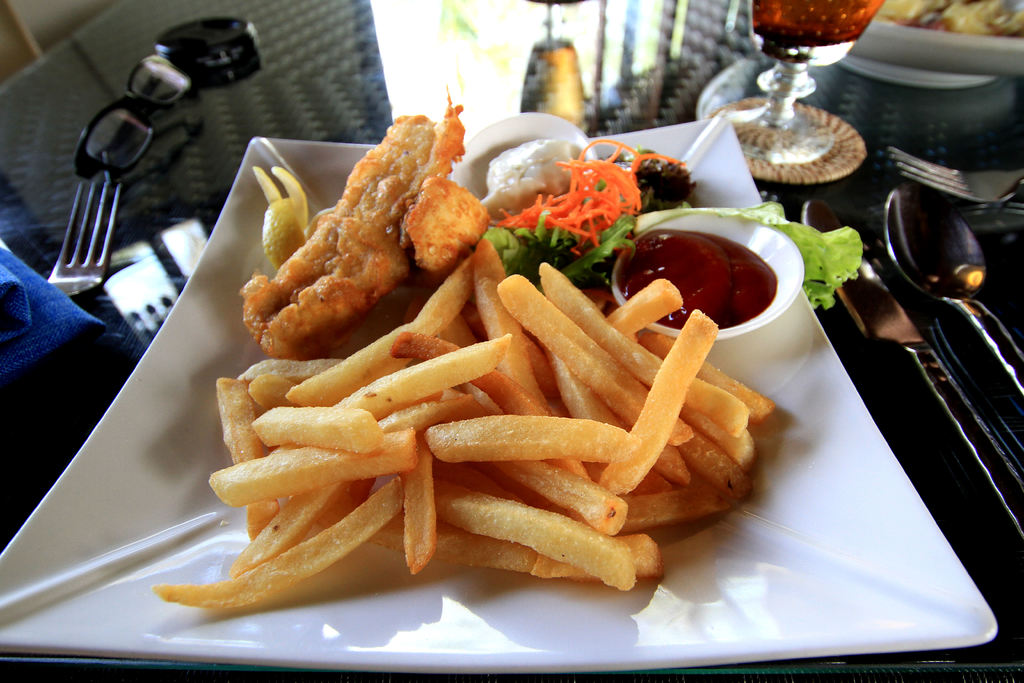French fries: (144, 230, 776, 631)
